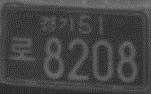0: (92, 37, 114, 83)
1: (94, 14, 109, 36)
2: (67, 38, 90, 81)
5: (78, 13, 93, 35)
8: (116, 40, 138, 84), (42, 37, 64, 79)
경기_O: (39, 14, 75, 33)
로: (9, 36, 35, 62)
